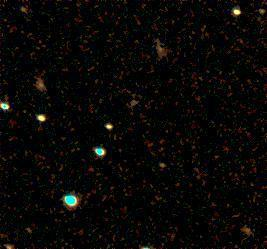star: (11, 99, 41, 129)
